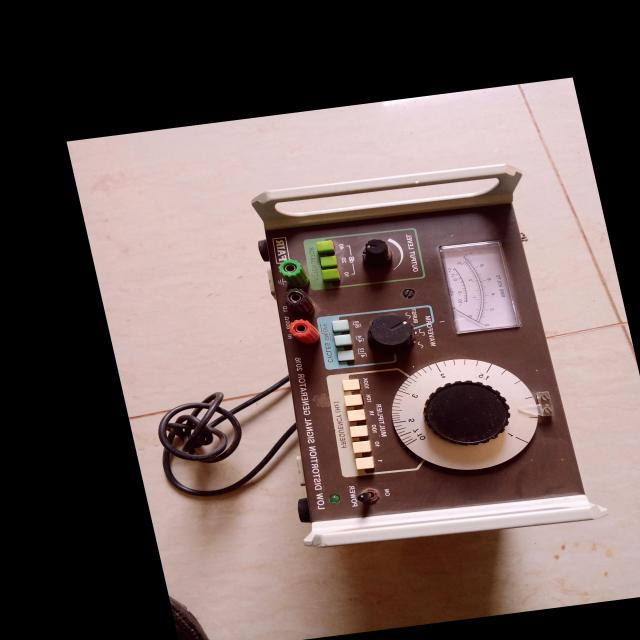Low Distortion Signal Generator: (202, 148, 628, 572)
